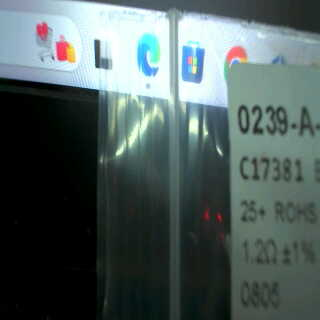1.2R: (240, 231, 279, 312)
